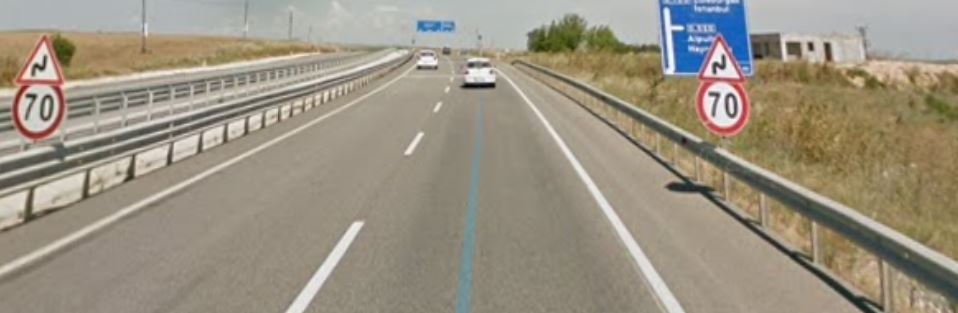70 Km Hiz Siniri: (6, 80, 66, 139), (697, 80, 756, 131)
